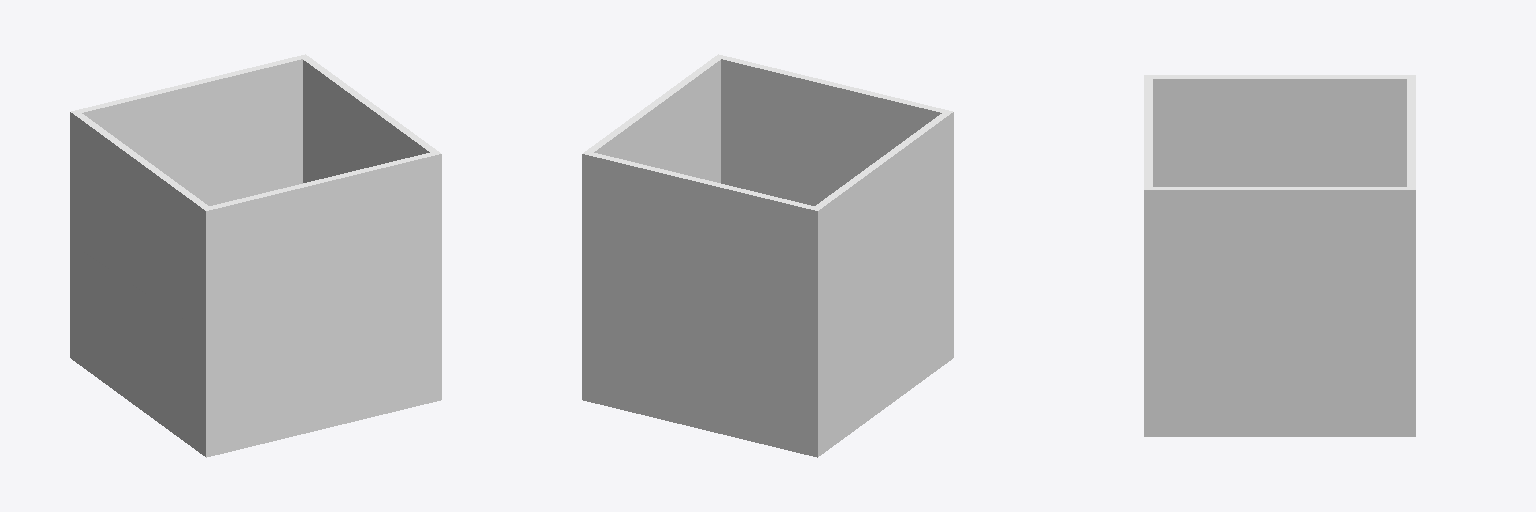
3 renders of one model, left to right at view 1: azimuth 30°, elevation 25°; view 2: azimuth 150°, elevation 25°; view 3: azimuth 270°, elevation 25°, orthographic.
Visible parts, largest first — view 1: test-73; view 2: test-73; view 3: test-73.
Part boxes in pixels (x1,y1,x2,y2): test-73: (70,54,441,457); test-73: (582,54,953,457); test-73: (1144,75,1415,436).
Size of the model in its own units: 32 by 32 by 32.